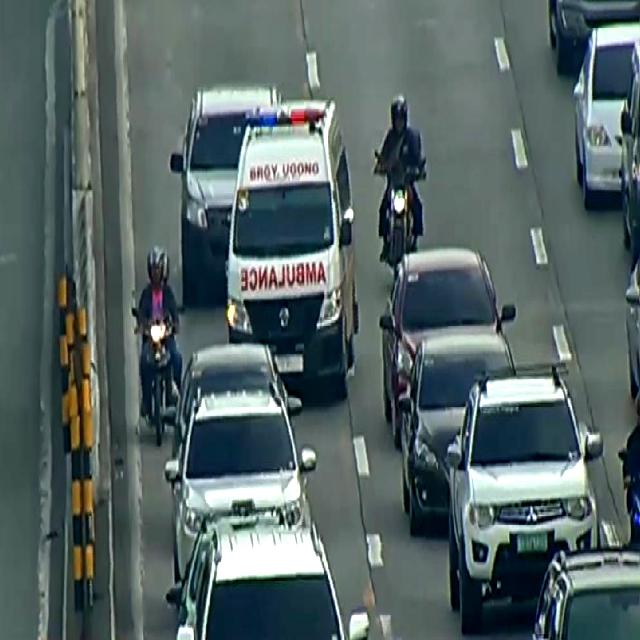emergency: (225, 92, 362, 409)
